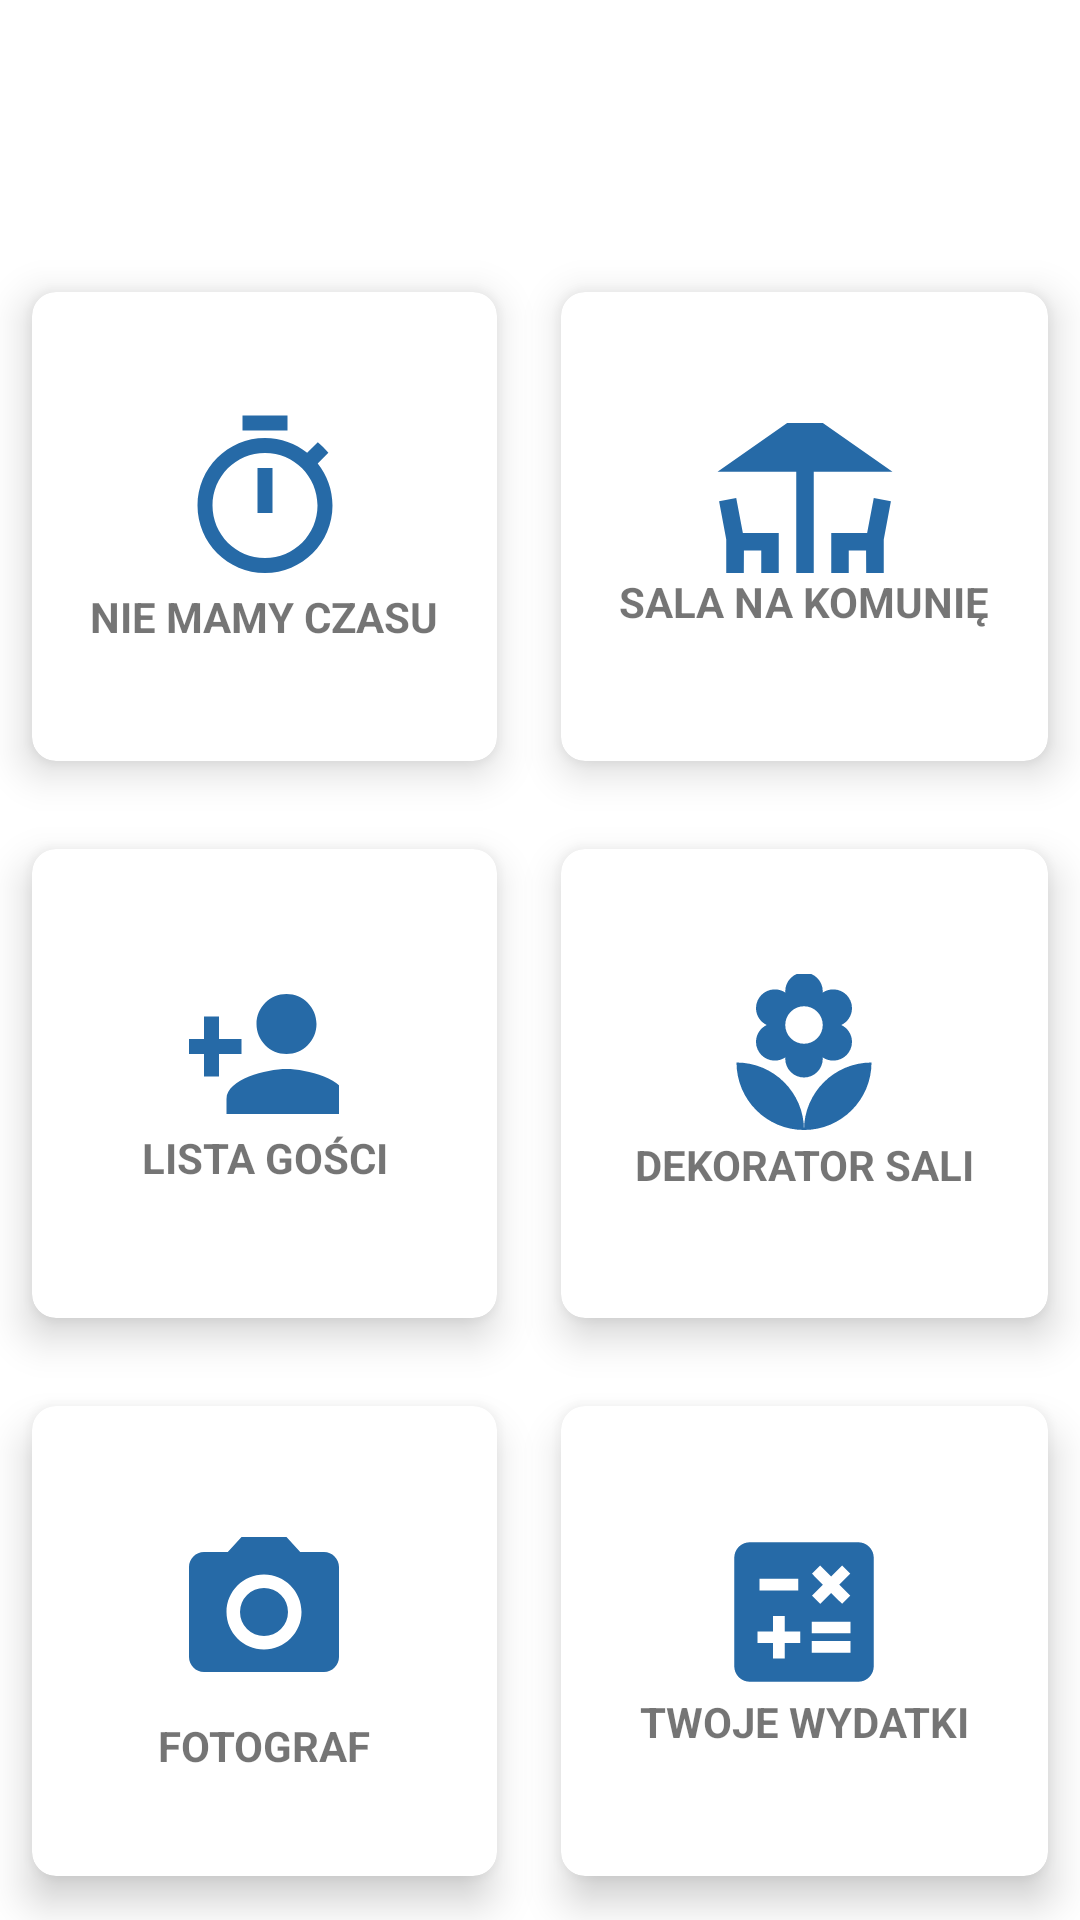

Screen size 1080w x 1920h. Icon name, then its box in pixels as (x1, y1, x2, y2):
calculate: (734, 1542, 874, 1682)
camera: (189, 1537, 339, 1672)
deck: (718, 423, 892, 573)
local florist: (736, 974, 872, 1130)
person add: (189, 994, 339, 1114)
timer: (197, 415, 333, 573)
